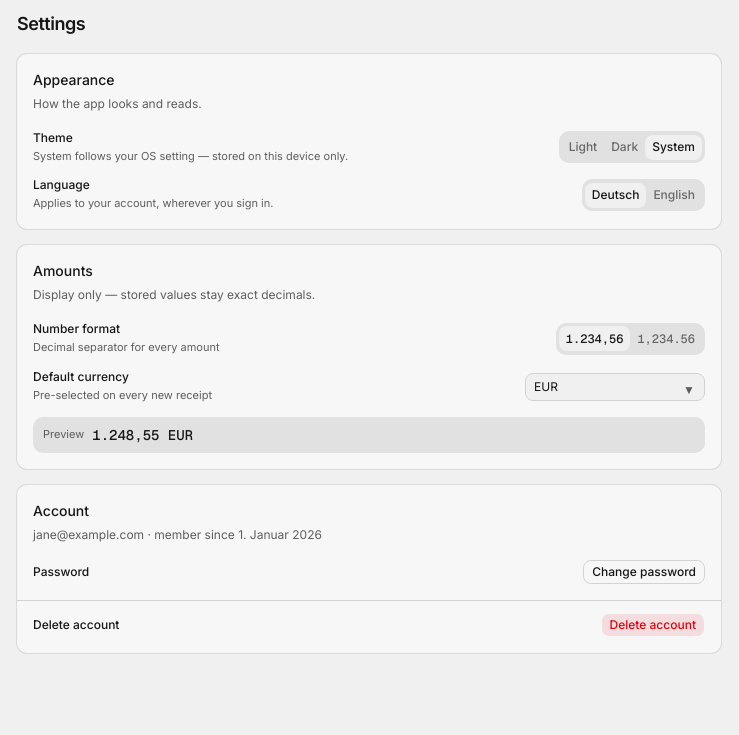
Scenario: SettingsPage › shows an alert and keeps the old value when updateMe fails
Click the tab "1,234.56": {"x": 666, "y": 339} [630,326,702,351]
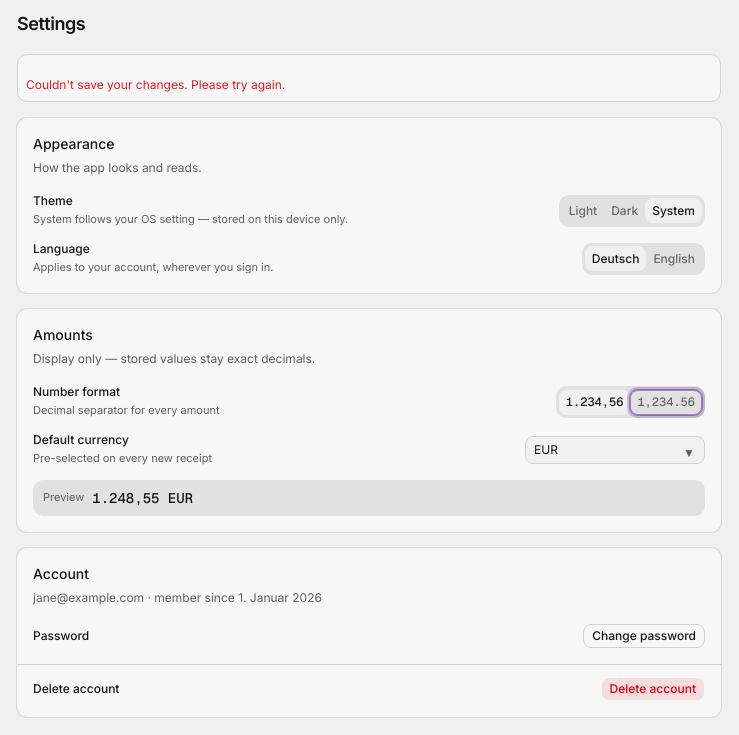
Expected: the text "1.248,55 EUR" is shown, [92,488,193,508]
Expected: the text "Couldn't save your changes. Please try again." is shown, [26,77,285,92]
